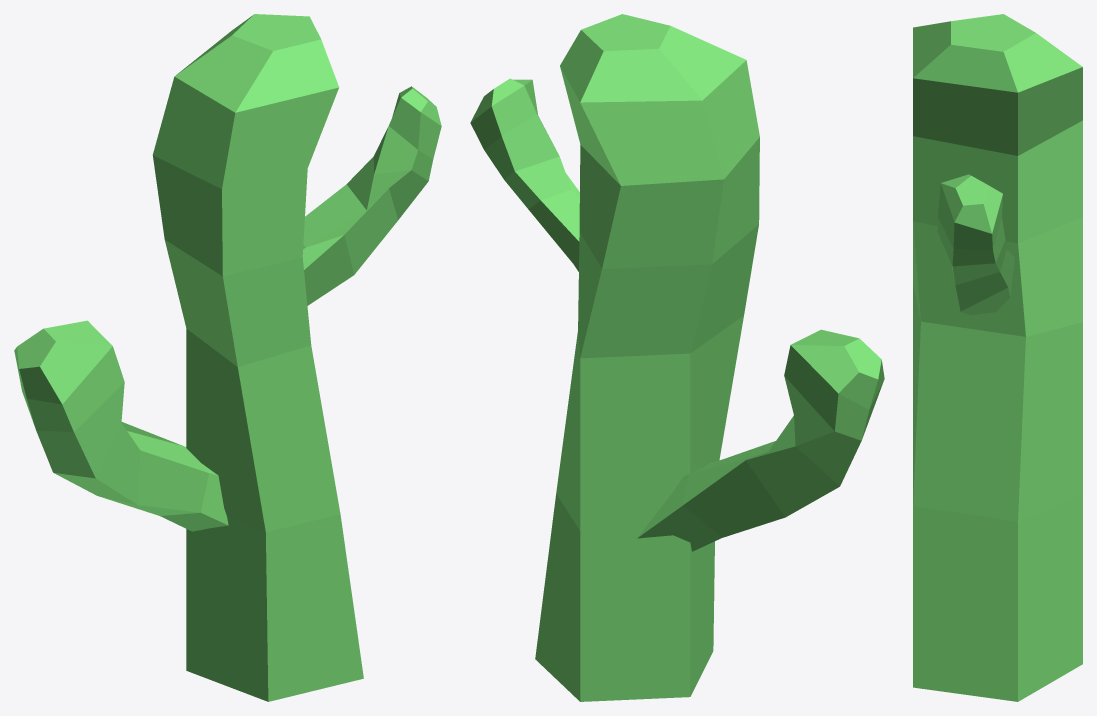
File: cactus.fbx
3 renders of one model, left to right at view 1: azimuth 30°, elevation 25°; view 2: azimuth 150°, elevation 25°; view 3: azimuth 270°, elevation 25°, orthographic.
Visible parts, largest first — view 1: Cylinder; view 2: Cylinder; view 3: Cylinder.
Boxes of the visible parts, left/top/right/bottom form: Cylinder: left=14, top=14, right=441, bottom=701; Cylinder: left=470, top=14, right=884, bottom=701; Cylinder: left=913, top=14, right=1082, bottom=701.
Size of the model in its own units: 504 by 742 by 181.
